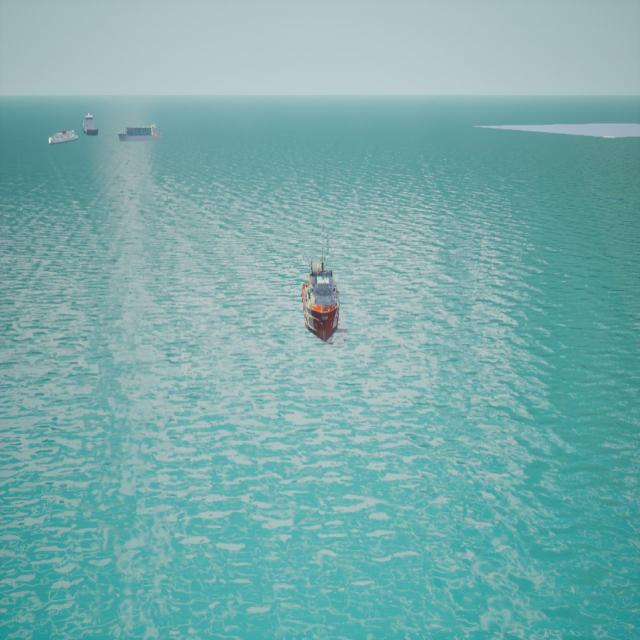tug boat: (304, 263, 341, 343)
